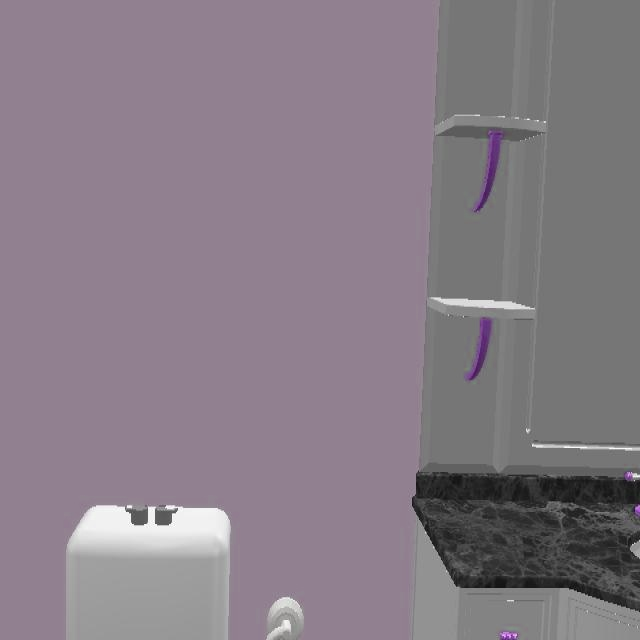toilet: (64, 505, 233, 640)
washbasin: (411, 473, 640, 640)
